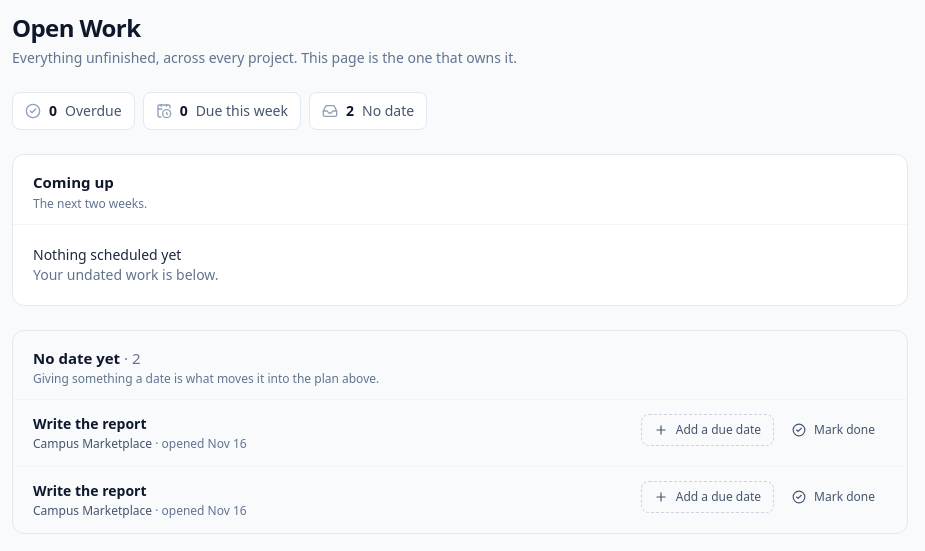
OpenWorkPage — marking work done › marks an entry done and takes it off the list
The image size is (925, 551).
Click the 1st button "Mark done" at (834,430), box 780,414 -> 887,446
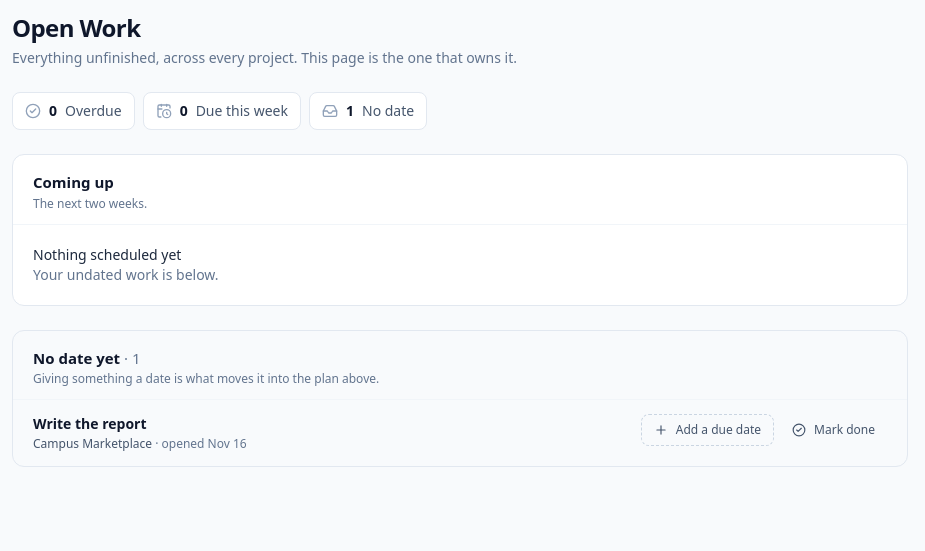
Check: the number of buttons "Mark done" is 1, box 780,414 -> 887,446
